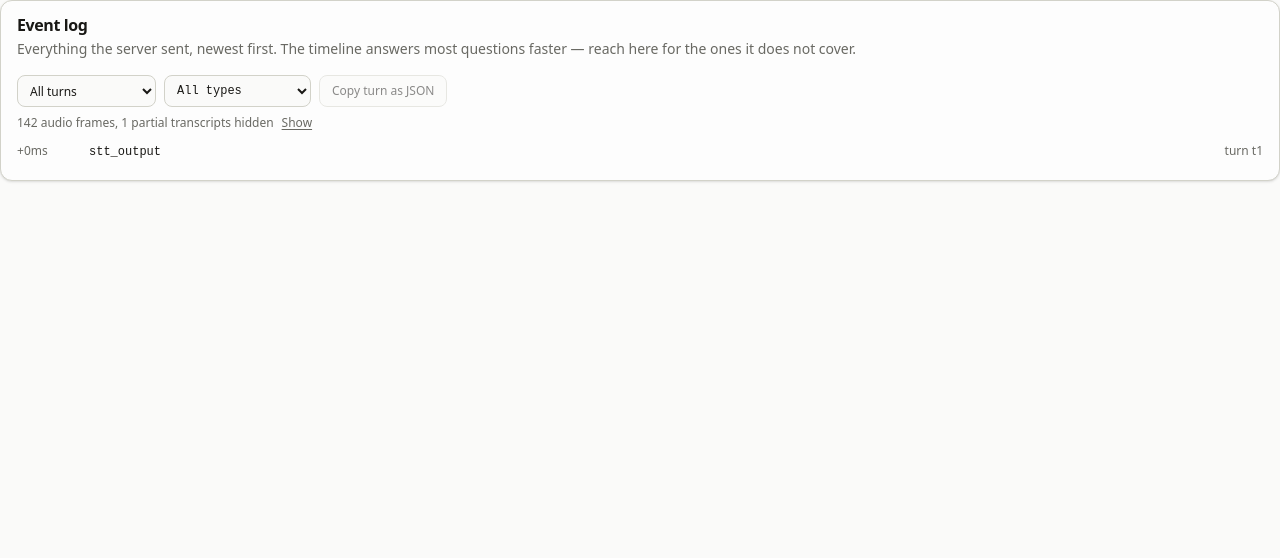
Test: EventLog › hides per-frame noise behind a count, and reveals it on request
This screenshot has width=1280, height=558.
Expected: the number of list items with test id "event-row" is 1, 17,139 -> 1263,164
Expected: the text with test id "per-frame-count" reads "142 audio frames, 1 partial transcripts hidden", 17,115 -> 274,131
What coordinates should you click on to do the following:
click the button with test id "per-frame-toggle"
I would click on:
 (297, 123)
Its box is 282,115 -> 312,131.
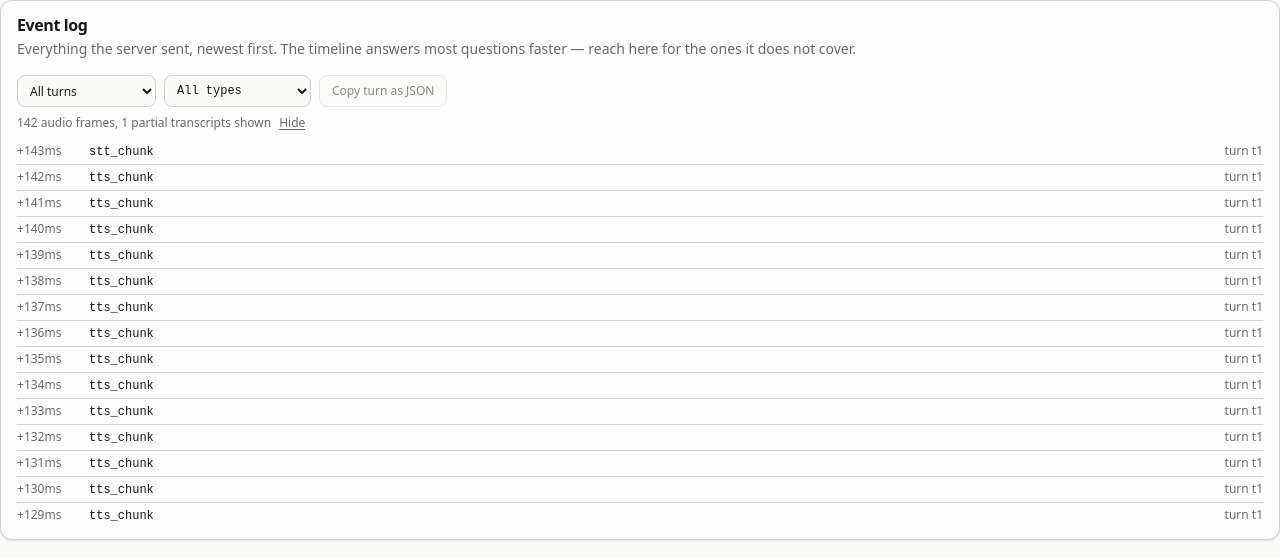
Now the text with test id "per-frame-count" shows "shown", box 234,114 -> 271,131
